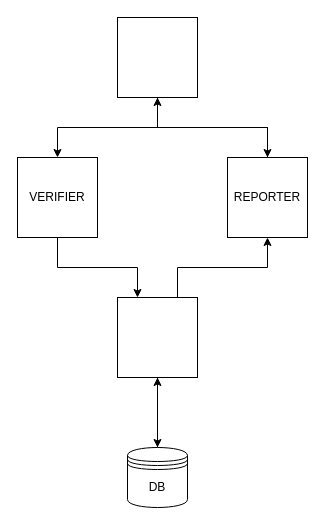
The diagram is 325 pixels wide and 525 high, and some of its shapes have lost their labels. Each missing label, with the box of its shape:
API GATEWAY: (116, 16, 198, 98)
DATABASE ACCESS: (116, 296, 198, 378)
